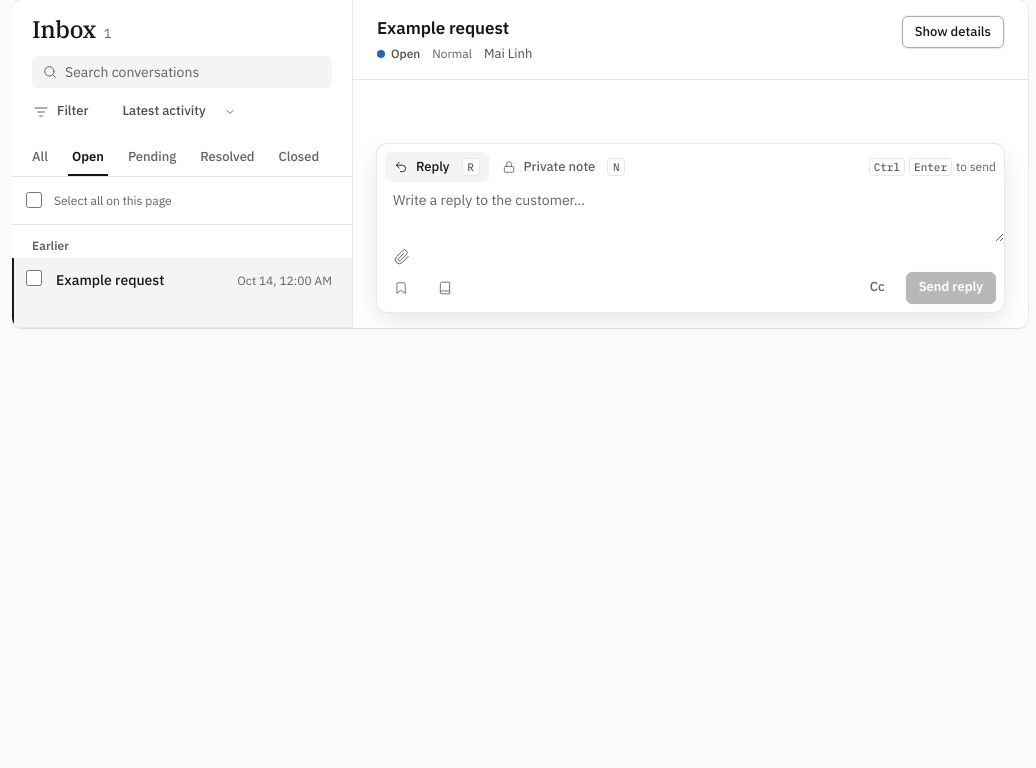
Test: details drawer takes focus when opened and returns it on Escape
Click the button "Show details". click: point(953, 32)
box: [902,16,1004,48]
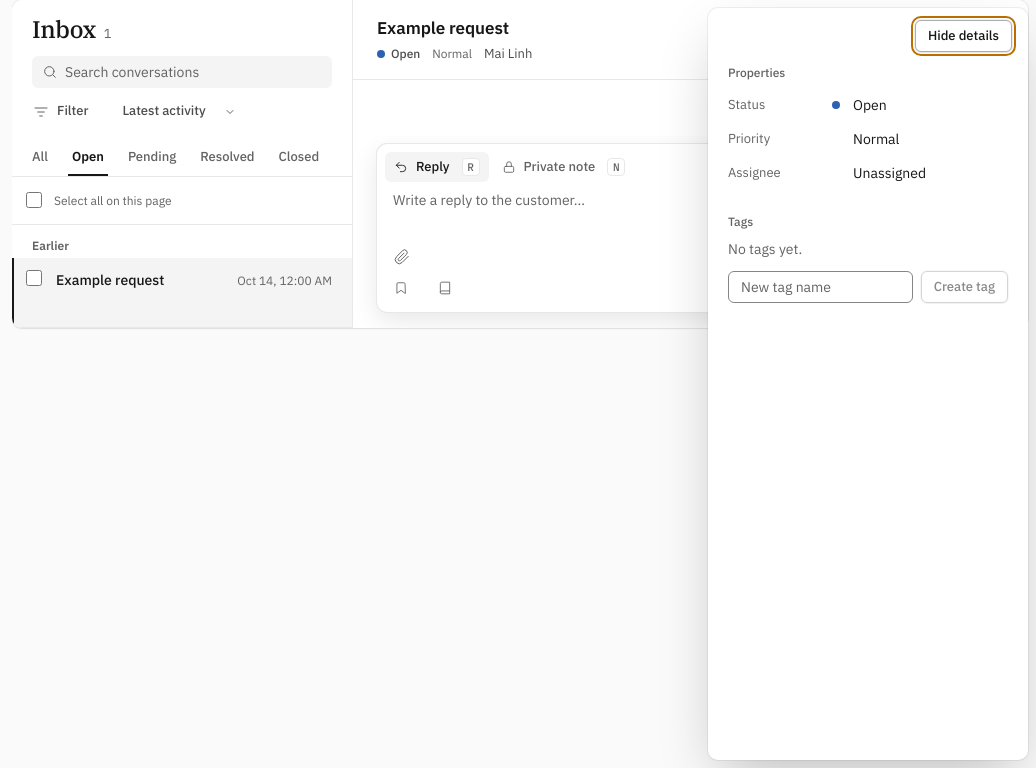
Now the button "Show details" is expanded, box [902,16,1004,48]
Press Escape in the element named "conversation details", box [708,8,1028,760]
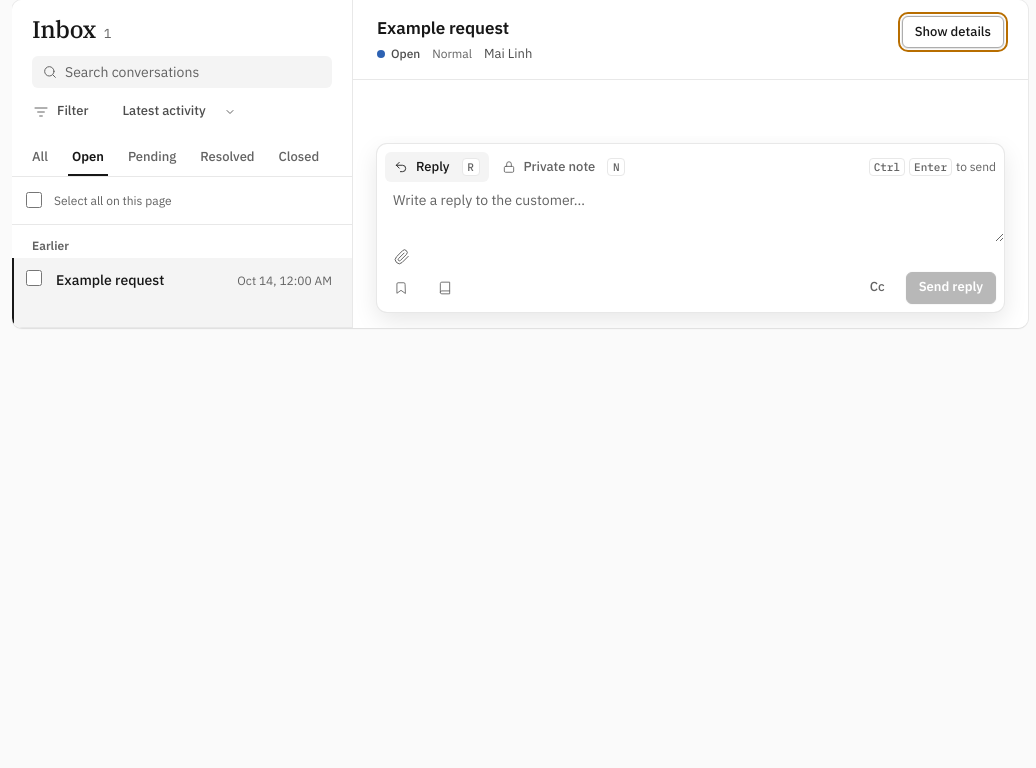
Now the button "Hide details" is gone
